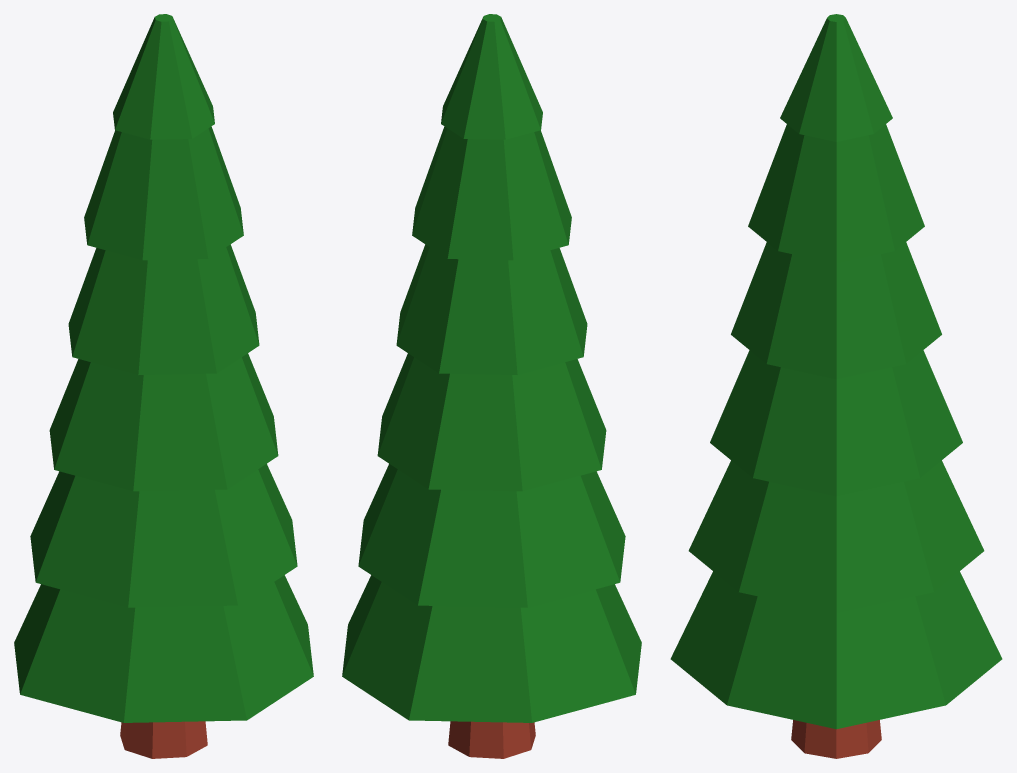
File: Tree1, Short_Skinny.fbx
3 views of the same model, side by side, from view 1: azimuth 30°, elevation 25°; view 2: azimuth 150°, elevation 25°; view 3: azimuth 270°, elevation 25° (orthographic).
Parts seen in each view (by area): view 1: Pine Tree; view 2: Pine Tree; view 3: Pine Tree.
Part boxes in pixels (x1,y1,x2,y2): Pine Tree: [14, 14, 313, 758]; Pine Tree: [342, 14, 641, 758]; Pine Tree: [670, 14, 1002, 758].
Size of the model in its own units: 97.94 by 235 by 97.94.
